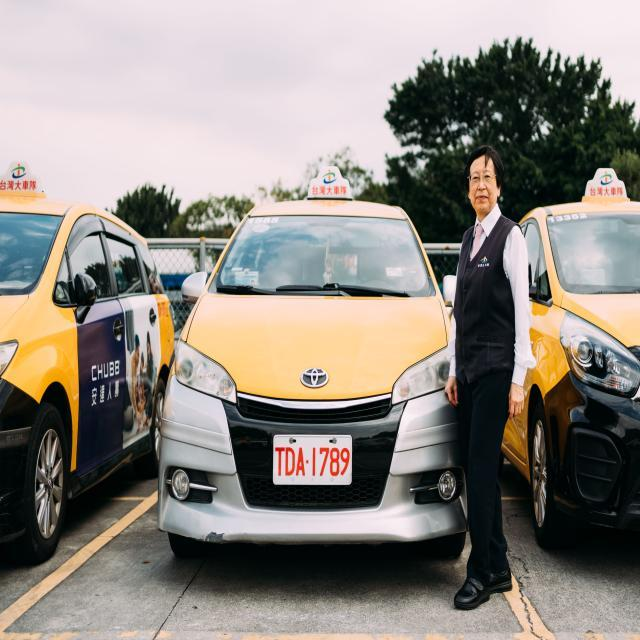taxi: (152, 137, 459, 621), (1, 143, 160, 578), (523, 169, 640, 552)
